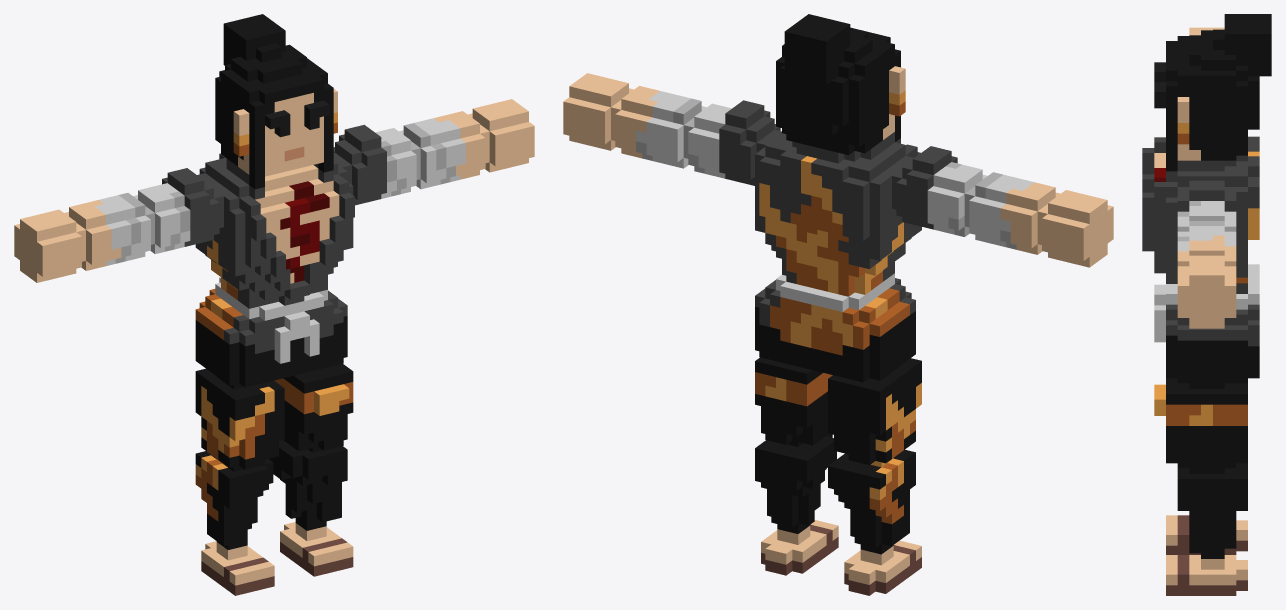
Rendered from human_man_samurai.glb.
The picture shows the model from 3 angles, left to right: view 1: azimuth 30°, elevation 25°; view 2: azimuth 150°, elevation 25°; view 3: azimuth 270°, elevation 25°; orthographic projection. The views are drawn at different scales.
Parts seen in each view (by area): view 1: human_man_samurai.001; view 2: human_man_samurai.001; view 3: human_man_samurai.001.
Part boxes in pixels (x1,y1,x2,y2): human_man_samurai.001: (14,14,534,595); human_man_samurai.001: (563,14,1113,595); human_man_samurai.001: (1142,14,1271,595).
Bounding box in the file's own units: 5 × 5.1 × 1.1.
Materials: 1 (1 with a texture image).
